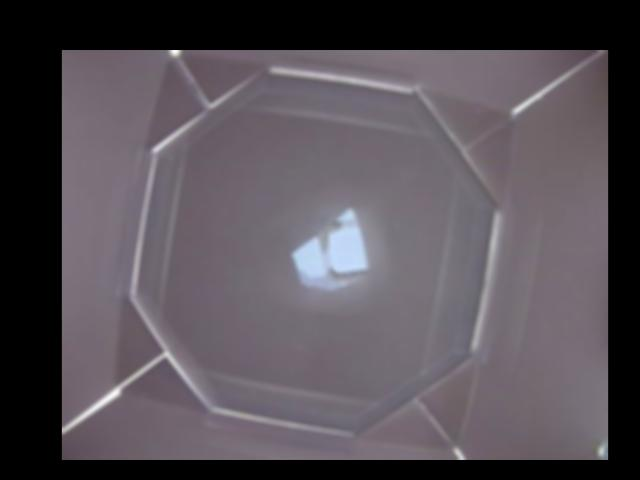China: (289, 210, 367, 291)
